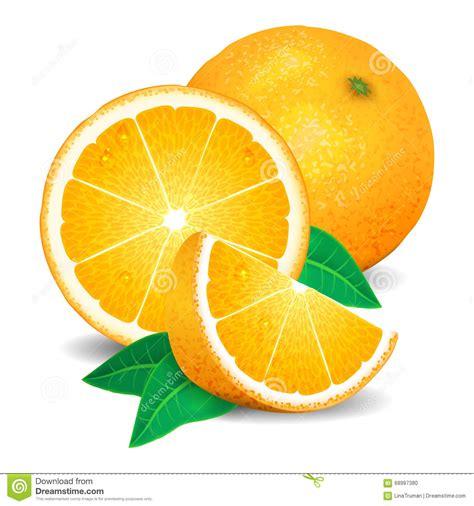orange: (194, 24, 440, 271)
